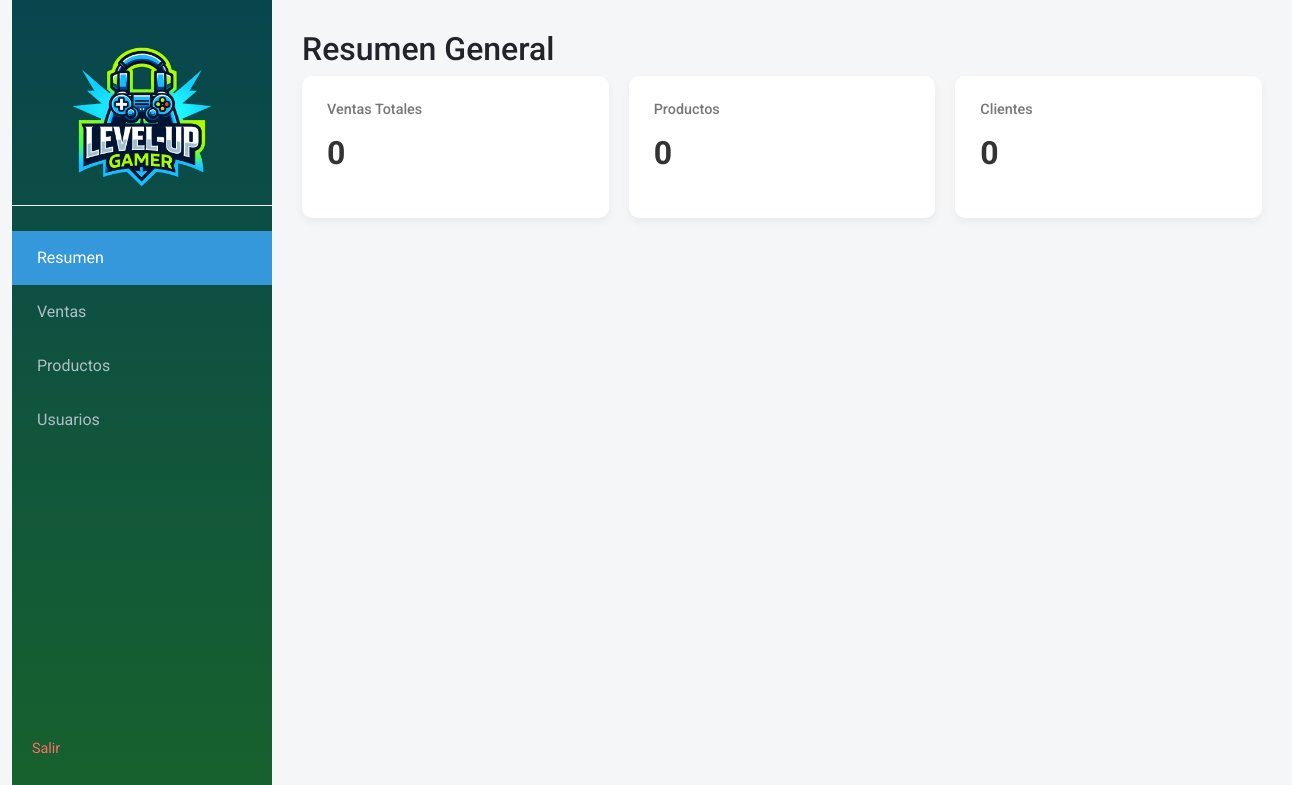
Pruebas en AdminPanel.jsx › 12. Cambiar de pestaña a "Productos" muestra la tabla
The width and height of the screenshot is (1292, 785).
Click the button "Productos". click: (74, 366)
box: [12, 339, 272, 393]
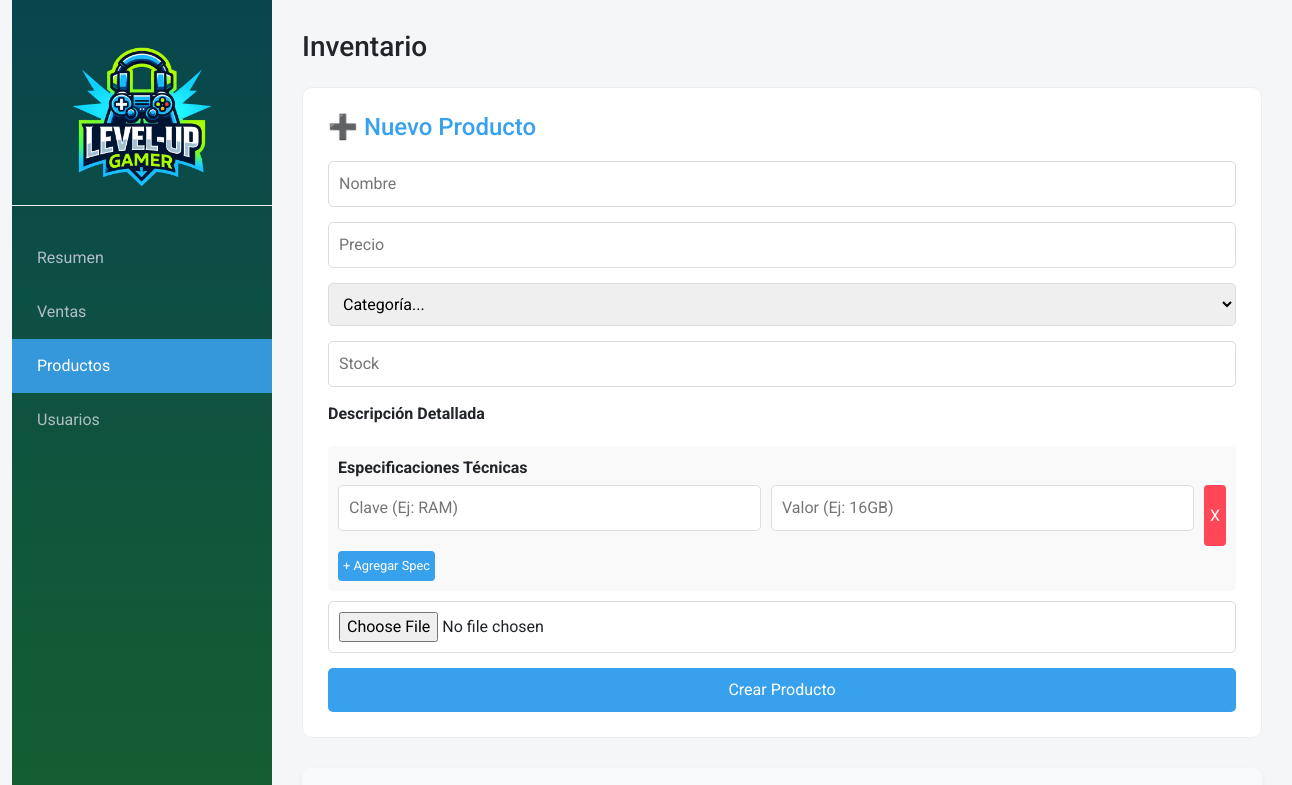
Check: the heading "Inventario" is shown, box [302, 30, 427, 64]
